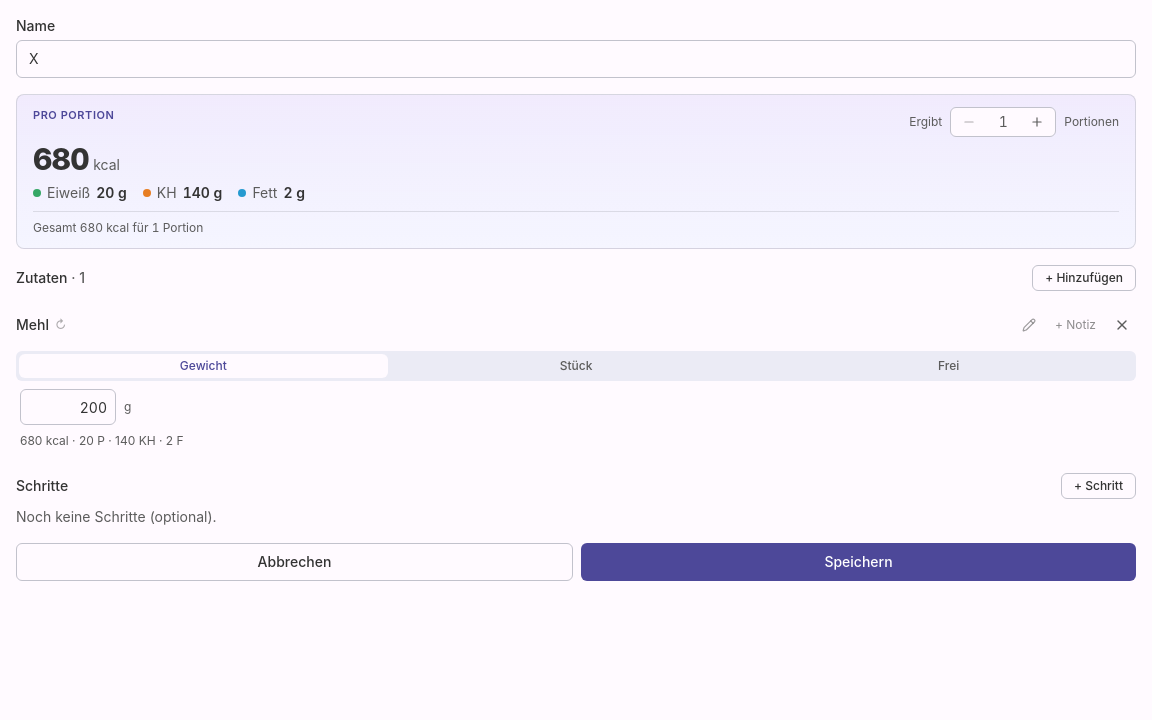
RecipeForm — live totals strip › updates the hero when the servings stepper changes (per-serving divides; total invariant)
Expected: the element with test id "totals-per-serving" shows "680 kcal", [33,141,305,201]
Expected: the text with test id "totals-secondary" shows "680 kcal", [33,220,203,235]
Click the button named "eine portion mehr" at [1037, 122], box [1023,110,1051,134]
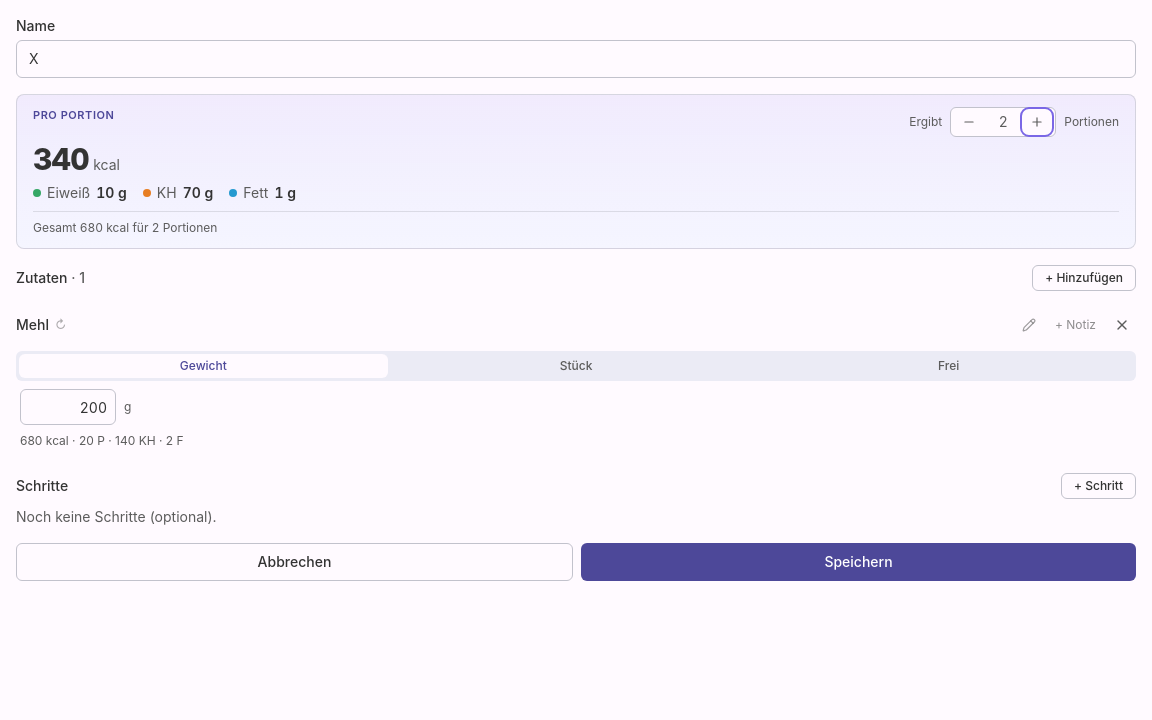
Expected: the text with test id "totals-secondary" shows "680 kcal", [33,220,217,235]
Now the element with test id "totals-per-serving" shows "340 kcal", box [33,141,296,201]
